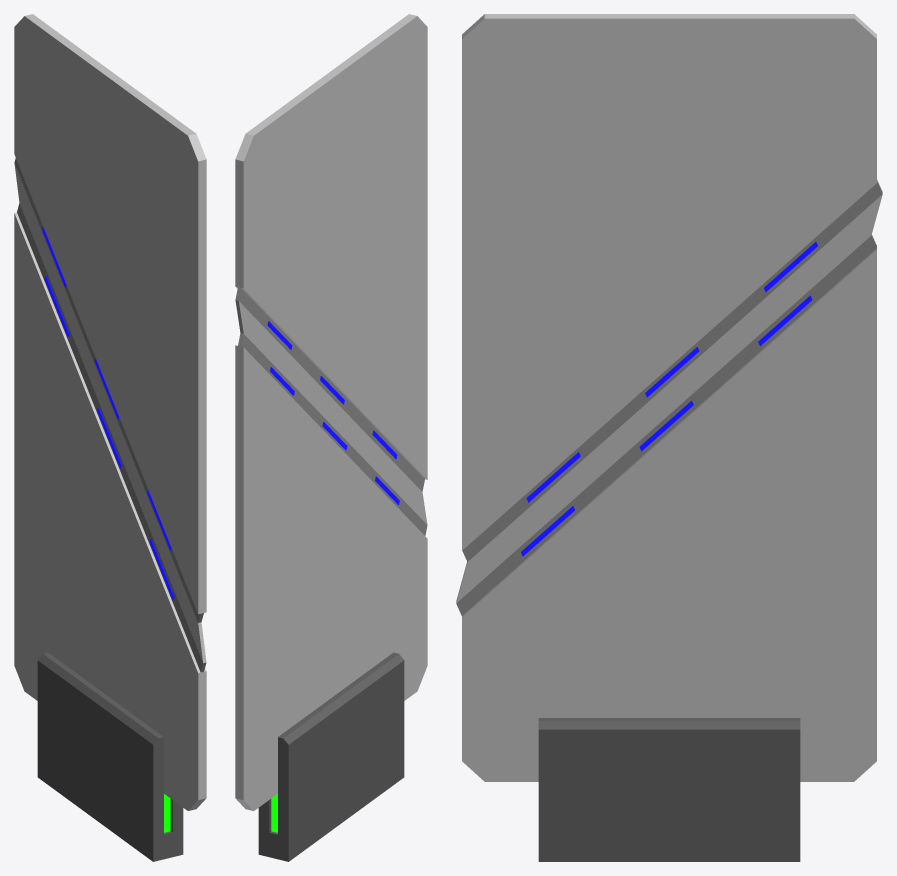
File: Entrance_Scanner_02.FBX
3 views of the same model, side by side, from view 1: azimuth 30°, elevation 25°; view 2: azimuth 150°, elevation 25°; view 3: azimuth 270°, elevation 25° (orthographic). The views are drawn at different scales.
Visible parts, largest first — view 1: Entrance_Scanner_02_LOD0; view 2: Entrance_Scanner_02_LOD0; view 3: Entrance_Scanner_02_LOD0.
Part boxes in pixels (x1=…): Entrance_Scanner_02_LOD0: x1=14, y1=14, x2=206, y2=861; Entrance_Scanner_02_LOD0: x1=235, y1=14, x2=427, y2=861; Entrance_Scanner_02_LOD0: x1=456, y1=14, x2=882, y2=861.
Size of what is drawn, in the model's own units: 3.61 by 84.64 by 39.08.
